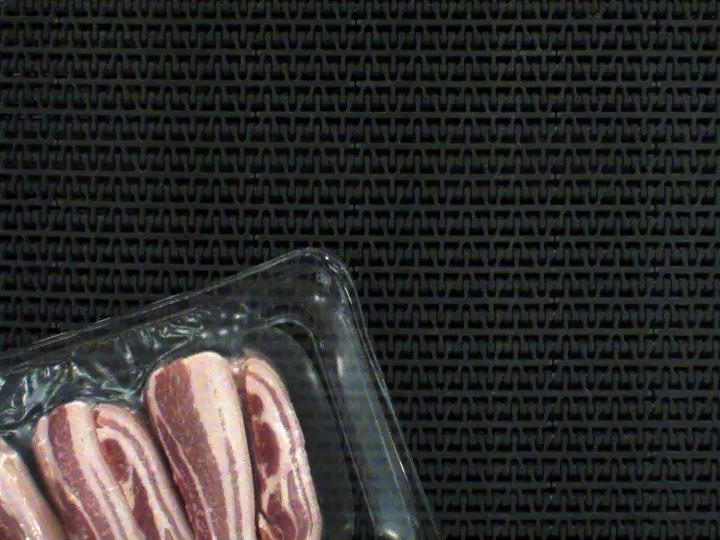unsealed: (0, 278, 290, 540)
